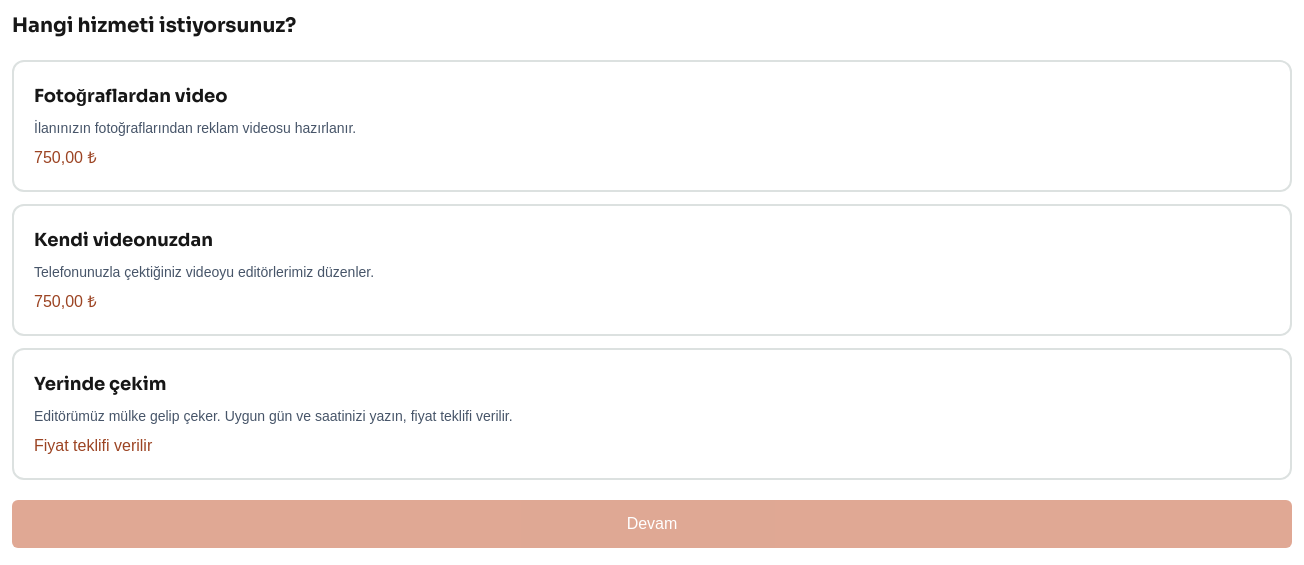
Test: OrderWizard › hizmet seçmeden Devam pasif, bir hizmet seçilince aktif olur
Check: the button "Devam" is disabled, box [12, 500, 1292, 548]
Click the radio button labelled "Fotoğraflardan video" at (652, 126), box [12, 60, 1292, 192]
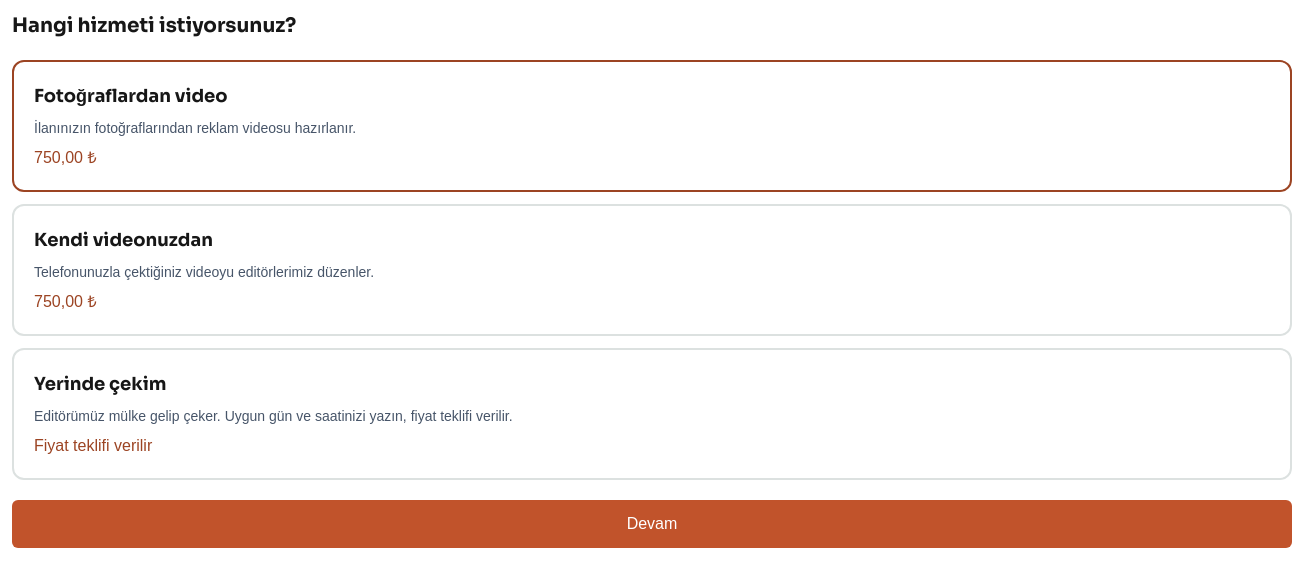
Check: the button "Devam" is enabled, box [12, 500, 1292, 548]
